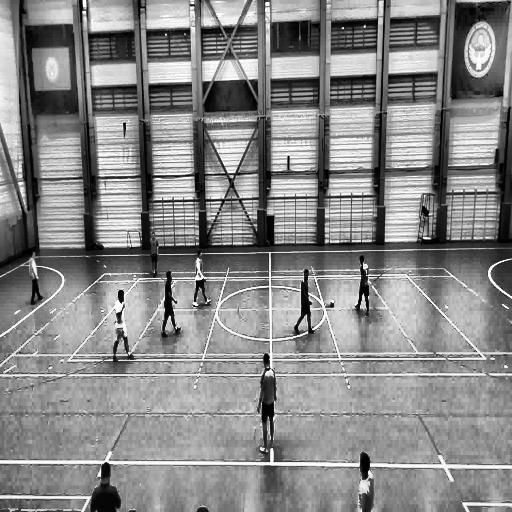ball: (330, 299, 334, 307)
player: (254, 350, 277, 456), (113, 290, 133, 362), (295, 267, 315, 335), (162, 270, 180, 336), (350, 255, 368, 317), (26, 248, 44, 306), (357, 452, 374, 512), (194, 250, 211, 308), (150, 230, 158, 277)
